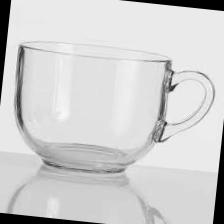glass: (0, 29, 224, 201)
